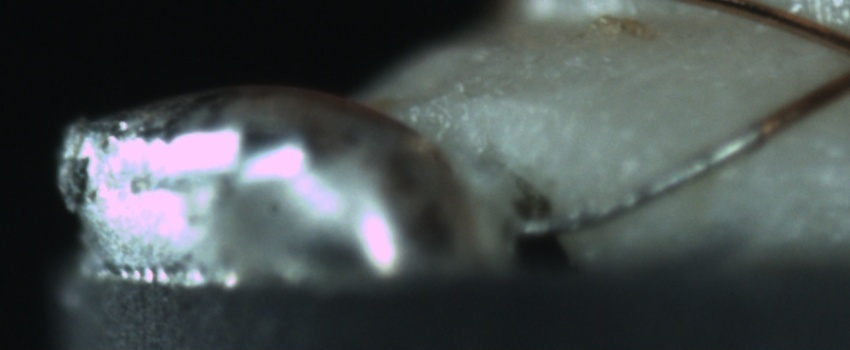TS: (516, 125, 768, 238)
